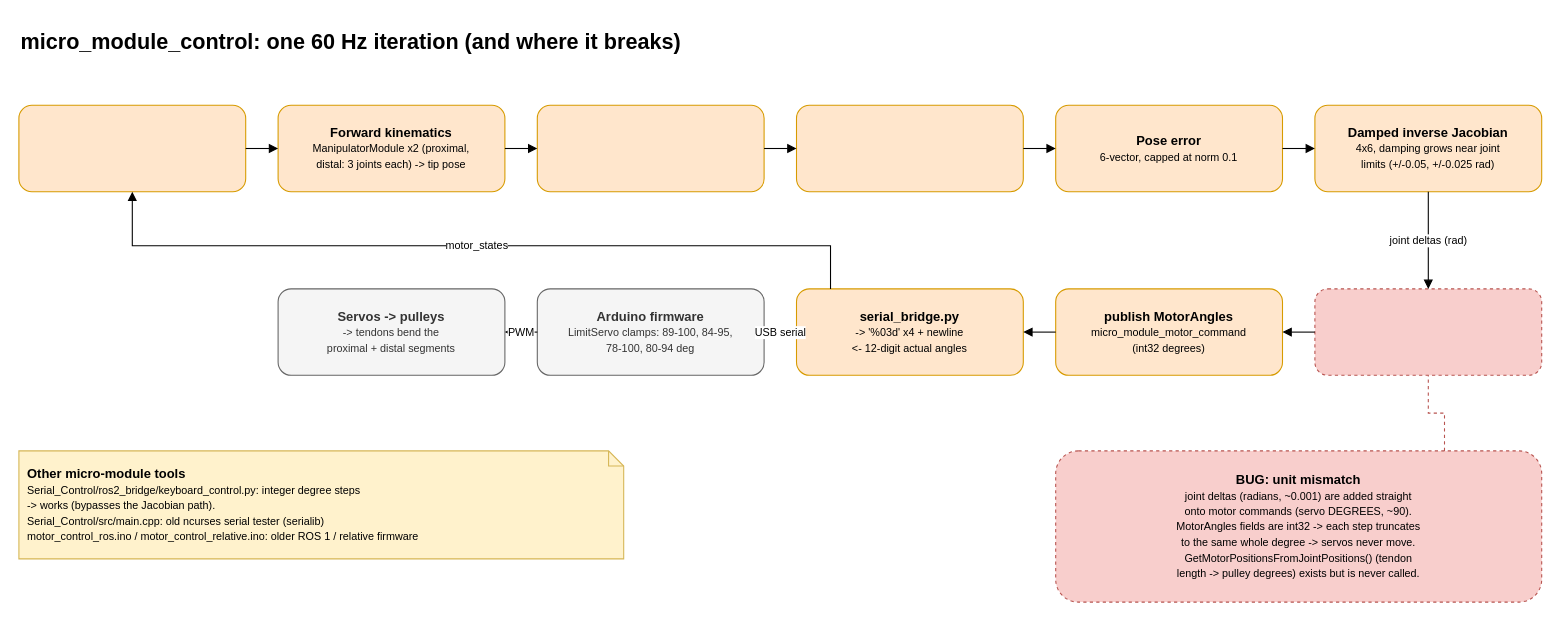
Image size: 1561x621. Some labels were removed from this diagram. The shapes that lost their labels are listed below. From the top down, each one's centre as x and y in pixels, then its label:
At (132,148): "Wait for data motor_states + min/max angles from serial_bridge; cmds = states".
At (650,148): "GREY pressed rising edge stores origin of tip pose and pen pose".
At (909,148): "Desired pose pos = origin + 10 x pen delta (m) rot = slerp(..., 0.02)".
At (1428,331): "Limit check + clamp cmd += delta if within motor min/max, then clamp".
